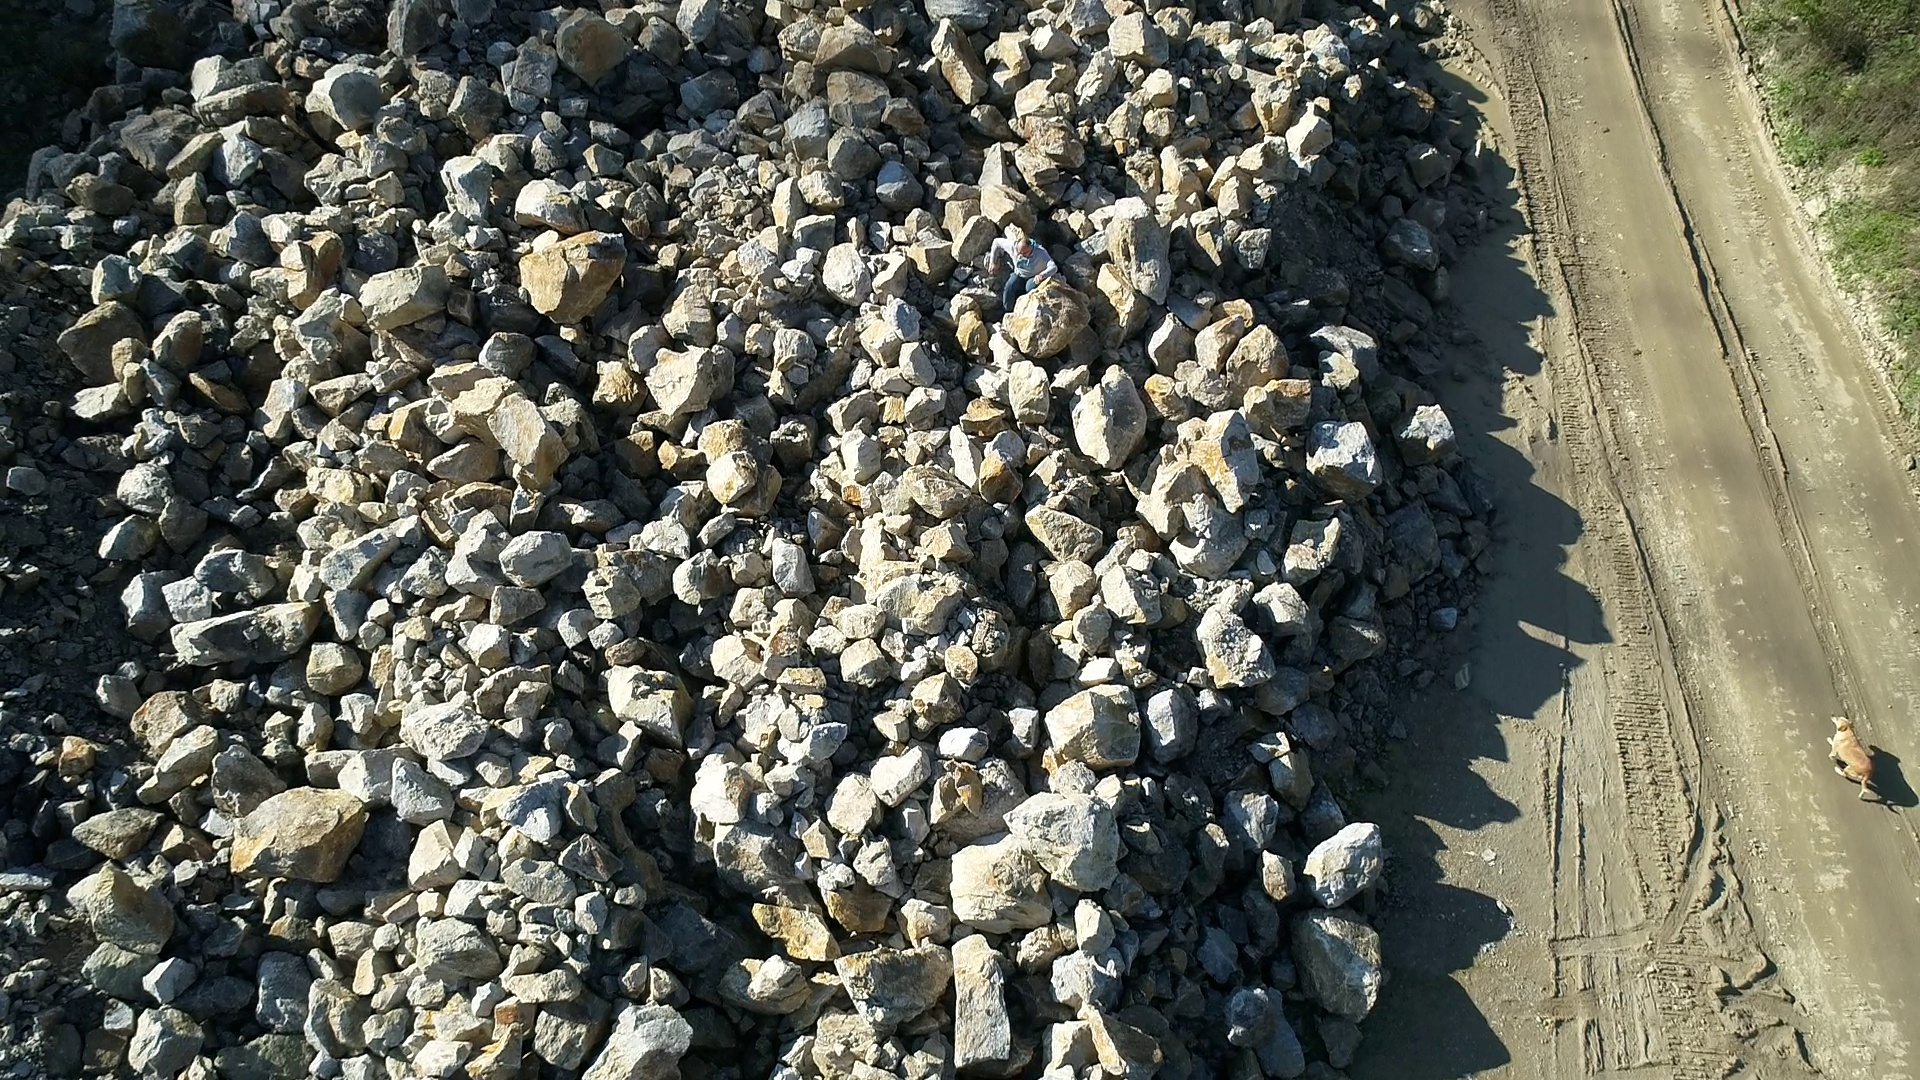person: (987, 232, 1057, 315)
